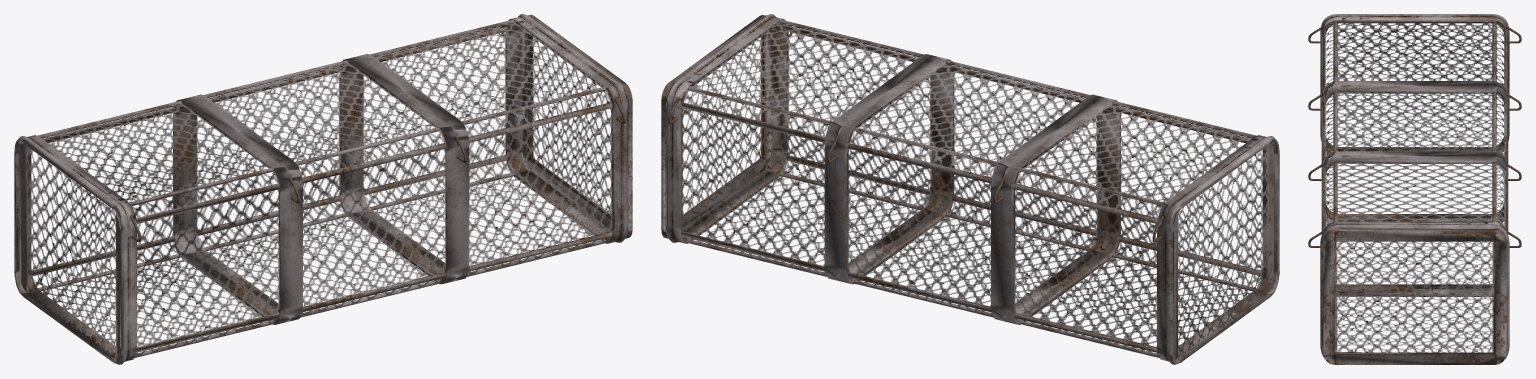
File: chicken_cage.glb
3 views of the same model, side by side, from view 1: azimuth 30°, elevation 25°; view 2: azimuth 150°, elevation 25°; view 3: azimuth 270°, elevation 25° (orthographic). The views are drawn at different scales.
Visible parts, largest first — view 1: chicken_cage; view 2: chicken_cage; view 3: chicken_cage.
Part boxes in pixels (<box>): chicken_cage: <box>14,14,632,364</box>; chicken_cage: <box>661,14,1279,364</box>; chicken_cage: <box>1308,14,1521,364</box>.
Bounding box in the file's own units: 4.42 × 1.32 × 1.84.
2 materials, 2 textured.
